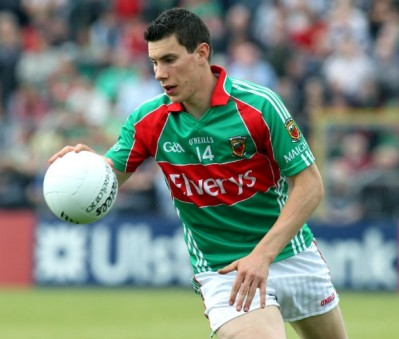ball: (49, 147, 117, 220)
player: (126, 14, 351, 329)
